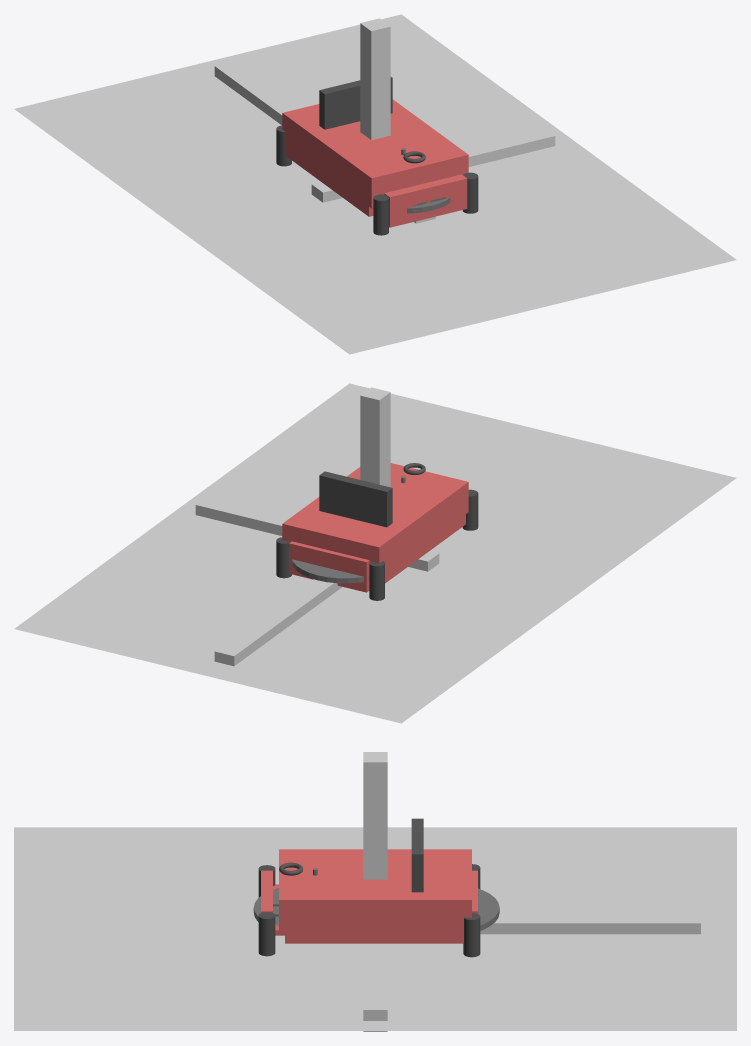
File: Kart01.glb
3 renders of one model, top to bottom at view 1: azimuth 30°, elevation 25°; view 2: azimuth 150°, elevation 25°; view 3: azimuth 270°, elevation 25°, orthographic. The views are drawn at different scales.
Visible parts, largest first — view 1: Kart01_Ground, Kart01_Chassis, REF_Z_Height, Kart01_Bumper_Front, REF_X_Width, REF_Y_Length, Kart01_Seat_Back, Kart01_SidePod_L, Kart01_Wheel_FL; view 2: Kart01_Ground, Kart01_Chassis, REF_Y_Length, Kart01_Seat_Back, REF_Z_Height, REF_X_Width, Kart01_Bumper_Rear, Kart01_SidePod_L, Kart01_Axle_Rear, Kart01_Wheel_RL; view 3: Kart01_Ground, Kart01_Chassis, REF_Y_Length, REF_Z_Height, Kart01_SidePod_R, REF_X_Width, Kart01_Seat_Back, Kart01_Wheel_FR, Kart01_Wheel_RR, Kart01_Axle_Rear, Kart01_Bumper_Front.
Boxes of the visible parts, x1=… form: Kart01_Ground: x1=14, y1=14, x2=736, y2=354; Kart01_Chassis: x1=282, y1=99, x2=468, y2=208; REF_Z_Height: x1=360, y1=18, x2=390, y2=140; Kart01_Bumper_Front: x1=384, y1=174, x2=467, y2=227; REF_X_Width: x1=311, y1=128, x2=555, y2=202; REF_Y_Length: x1=214, y1=61, x2=435, y2=223; Kart01_Seat_Back: x1=319, y1=76, x2=392, y2=129; Kart01_SidePod_L: x1=285, y1=125, x2=373, y2=216; Kart01_Wheel_FL: x1=373, y1=194, x2=388, y2=235; Kart01_Ground: x1=14, y1=383, x2=736, y2=723; Kart01_Chassis: x1=282, y1=463, x2=468, y2=573; REF_Y_Length: x1=214, y1=579, x2=342, y2=666; Kart01_Seat_Back: x1=319, y1=471, x2=392, y2=527; REF_Z_Height: x1=360, y1=387, x2=390, y2=487; REF_X_Width: x1=195, y1=497, x2=439, y2=571; Kart01_Bumper_Rear: x1=289, y1=541, x2=369, y2=592; Kart01_SidePod_L: x1=385, y1=494, x2=465, y2=583; Kart01_Axle_Rear: x1=292, y1=559, x2=369, y2=583; Kart01_Wheel_RL: x1=369, y1=561, x2=384, y2=600; Kart01_Ground: x1=14, y1=827, x2=736, y2=1030; Kart01_Chassis: x1=279, y1=849, x2=471, y2=932; REF_Y_Length: x1=480, y1=913, x2=700, y2=934; REF_Z_Height: x1=363, y1=752, x2=387, y2=879; Kart01_SidePod_R: x1=285, y1=912, x2=465, y2=943; REF_X_Width: x1=363, y1=943, x2=387, y2=1031; Kart01_Seat_Back: x1=411, y1=818, x2=423, y2=892; Kart01_Wheel_FR: x1=258, y1=912, x2=275, y2=956; Kart01_Wheel_RR: x1=463, y1=913, x2=480, y2=957; Kart01_Axle_Rear: x1=478, y1=888, x2=499, y2=930; Kart01_Bumper_Front: x1=261, y1=870, x2=272, y2=912.
Size of the model in its own units: 4 by 2.1 by 6.
